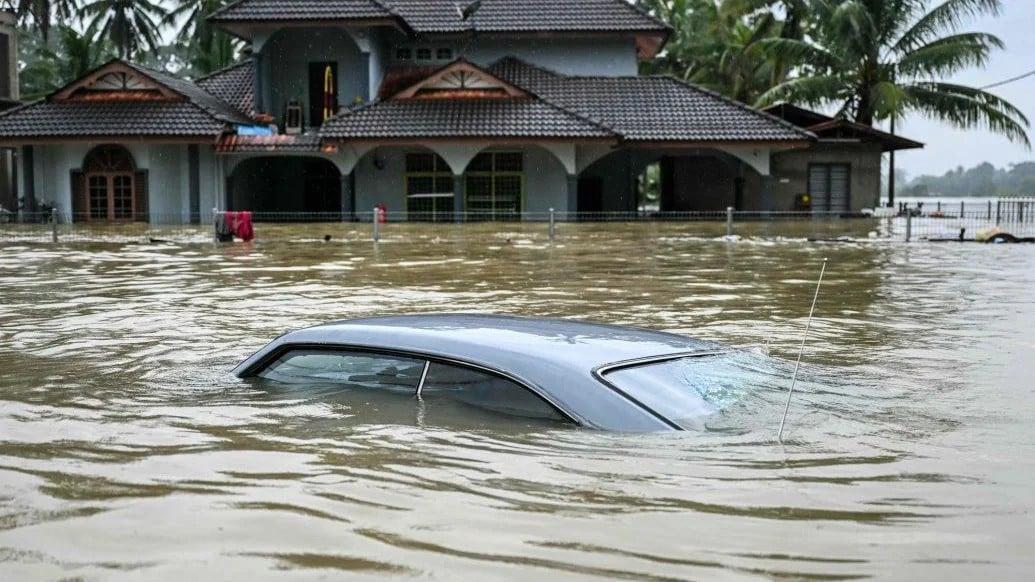water: (0, 241, 1034, 578), (0, 241, 1034, 382)
